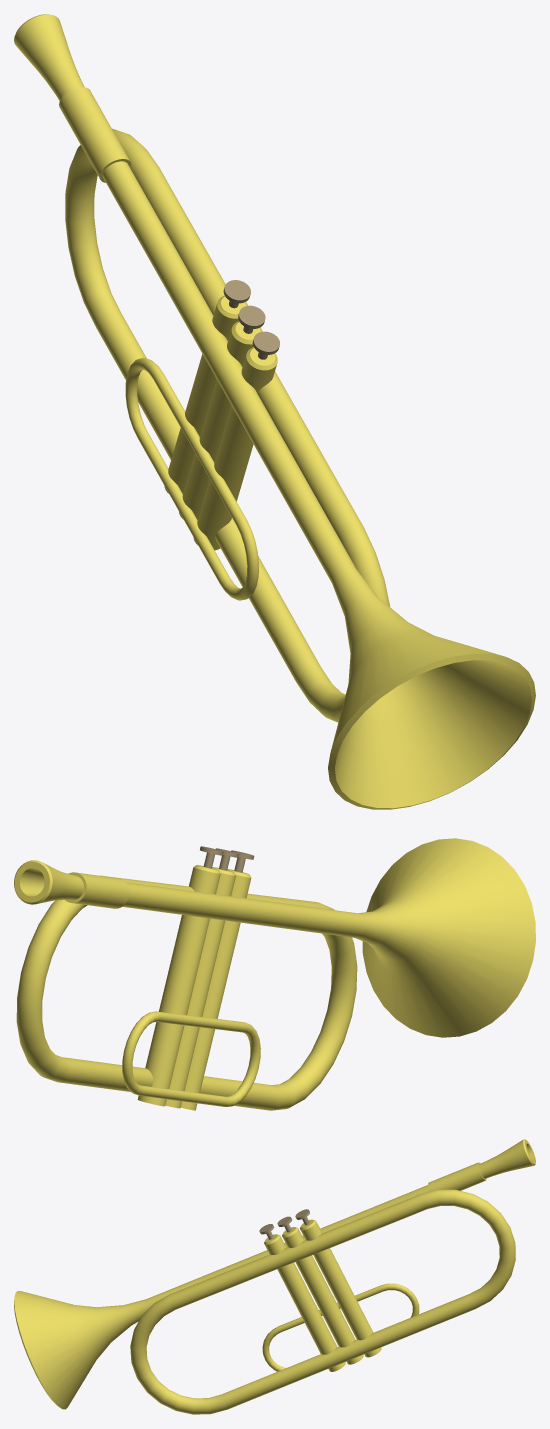
File: Trumpet.fbx
The picture shows the model from 3 angles, top to bottom: view 1: azimuth 30°, elevation 25°; view 2: azimuth 150°, elevation 25°; view 3: azimuth 270°, elevation 25°; orthographic projection. The views are drawn at different scales.
Visible parts, largest first — view 1: Cylinder.007; view 2: Cylinder.007; view 3: Cylinder.007.
Boxes of the visible parts, box(x1,y1,x2,y2) form: Cylinder.007: box(14, 14, 535, 809); Cylinder.007: box(14, 838, 535, 1110); Cylinder.007: box(14, 1139, 535, 1414).
Size of the model in its own units: 15.94 by 37.67 by 65.12.
